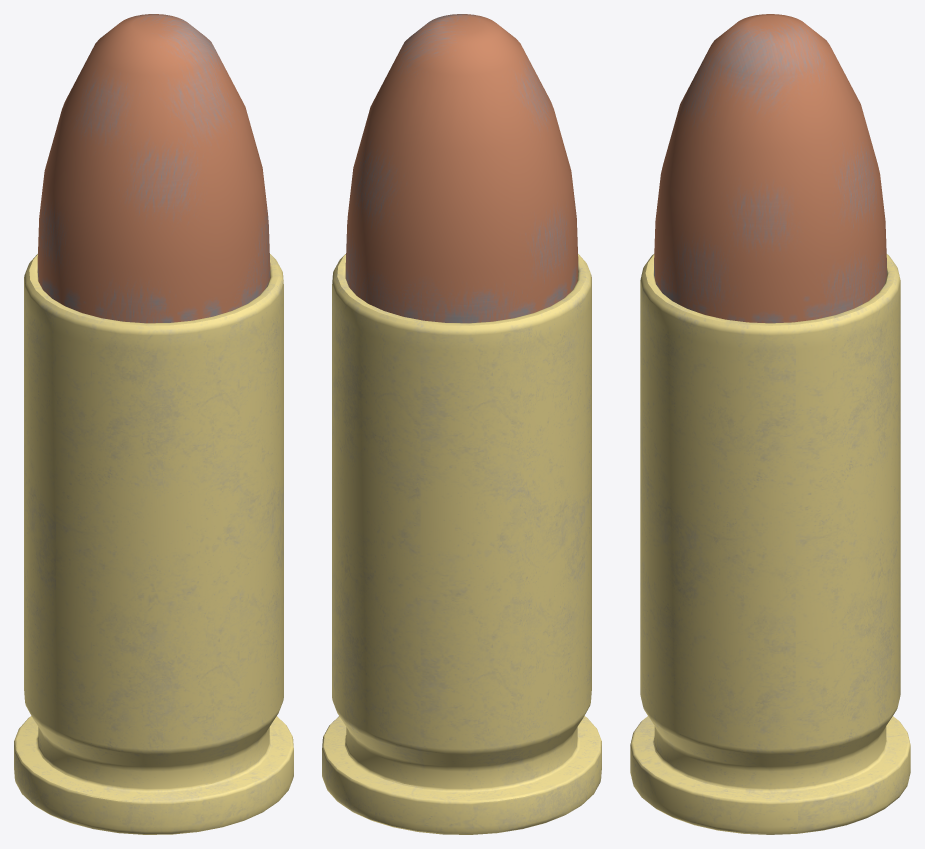
The model's file is 9x19mm_ammunitionammocartridge.glb.
The picture shows the model from 3 angles, left to right: view 1: azimuth 30°, elevation 25°; view 2: azimuth 150°, elevation 25°; view 3: azimuth 270°, elevation 25°; orthographic projection.
Parts seen in each view (by area): view 1: Cylinder; view 2: Cylinder; view 3: Cylinder.
Boxes of the visible parts, <box> form: Cylinder: <box>14,14,293,834</box>; Cylinder: <box>322,14,601,834</box>; Cylinder: <box>630,14,910,834</box>.
Bounding box in the file's own units: 0.0098 × 0.029 × 0.0098.
Materials: 3 (3 with a texture image).
